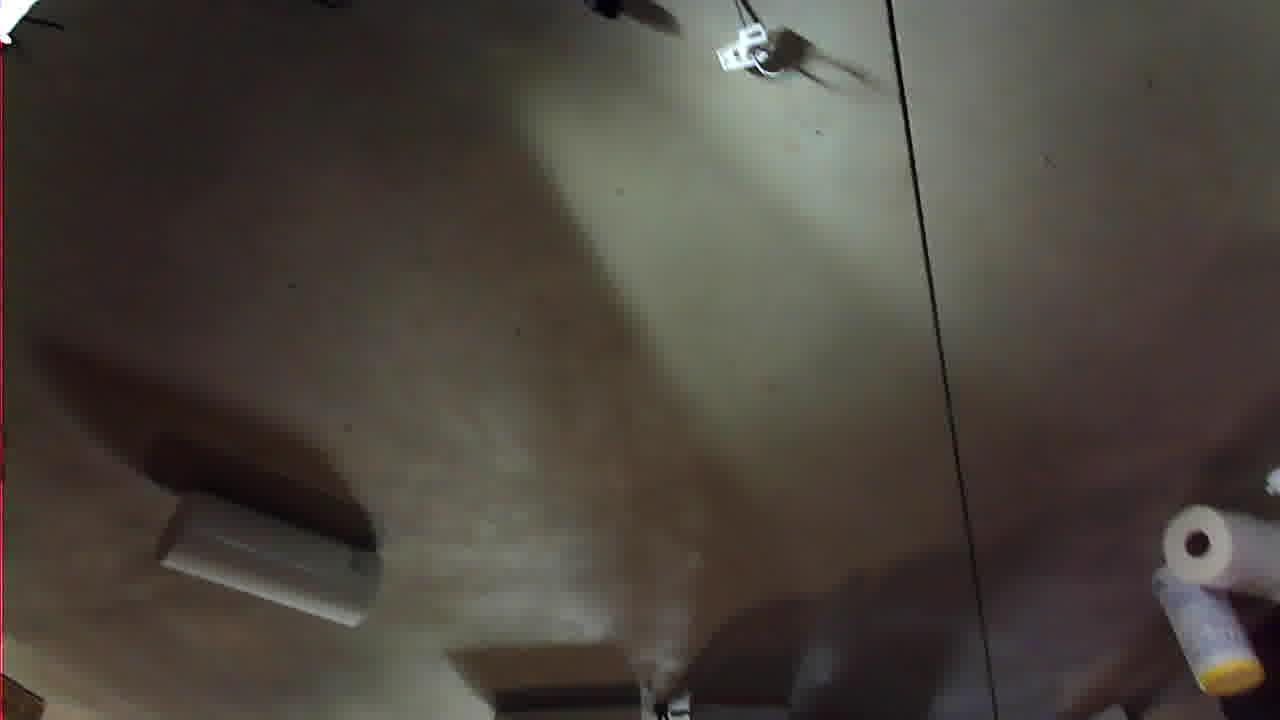coral: (901, 91, 1123, 229), (634, 0, 795, 27)
